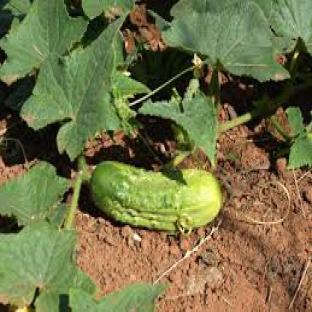Cucumber: (91, 161, 221, 231)
